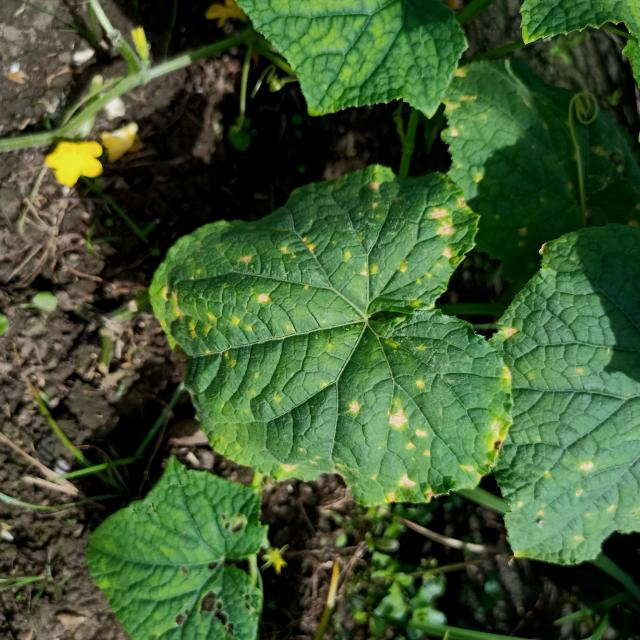disease_cucumber: (165, 195, 500, 502), (436, 73, 546, 244), (510, 466, 622, 536)
